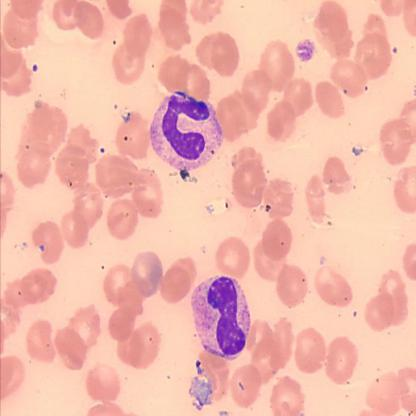Band Neutrophil: (146, 88, 224, 174), (189, 272, 253, 362)
